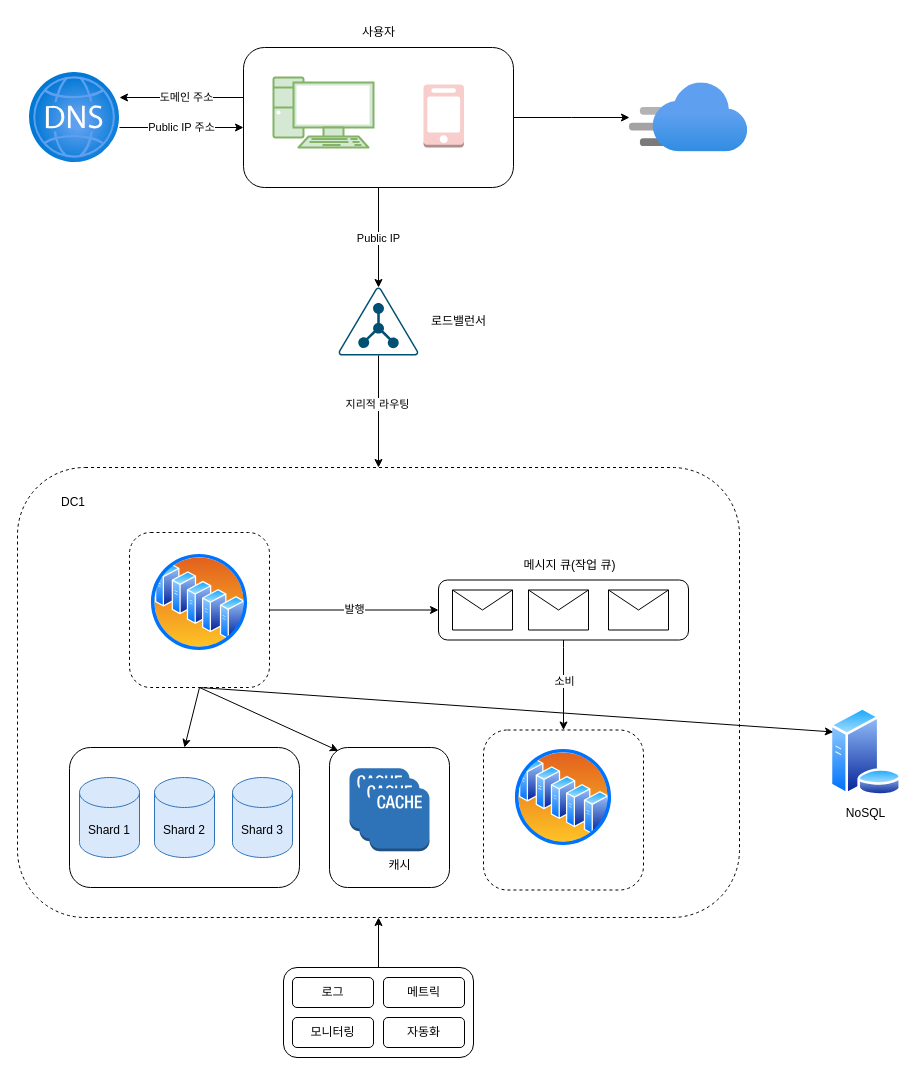
This 920x1075 diagram has some shape labels left out. The centre of each missing label's shape, as x and y in pixels:
"CDN" goes at point (688, 117).
"모바일 앱" goes at point (443, 116).
"웹 브라우저" goes at point (323, 112).
"웹서버" goes at point (199, 602).
"작업 서버" goes at point (563, 797).
